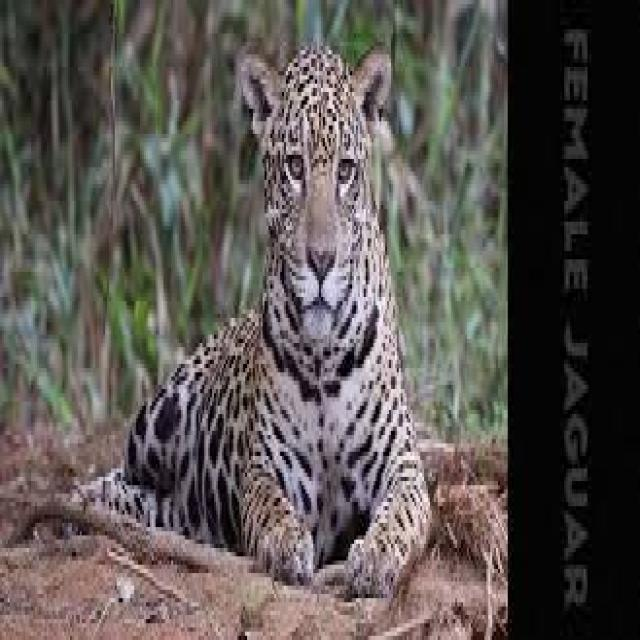Jaguar: (120, 38, 438, 602)
